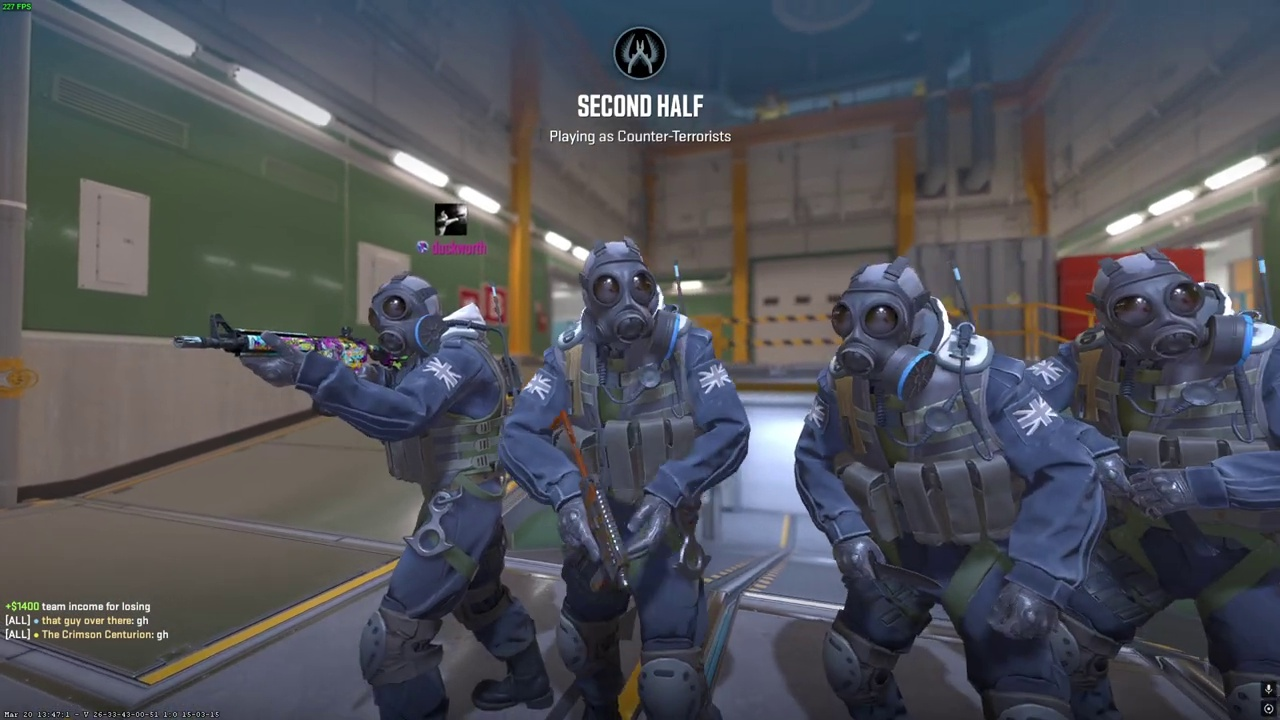CT: (789, 254, 1039, 720), (515, 238, 743, 720), (1061, 245, 1279, 720), (327, 272, 541, 720)
